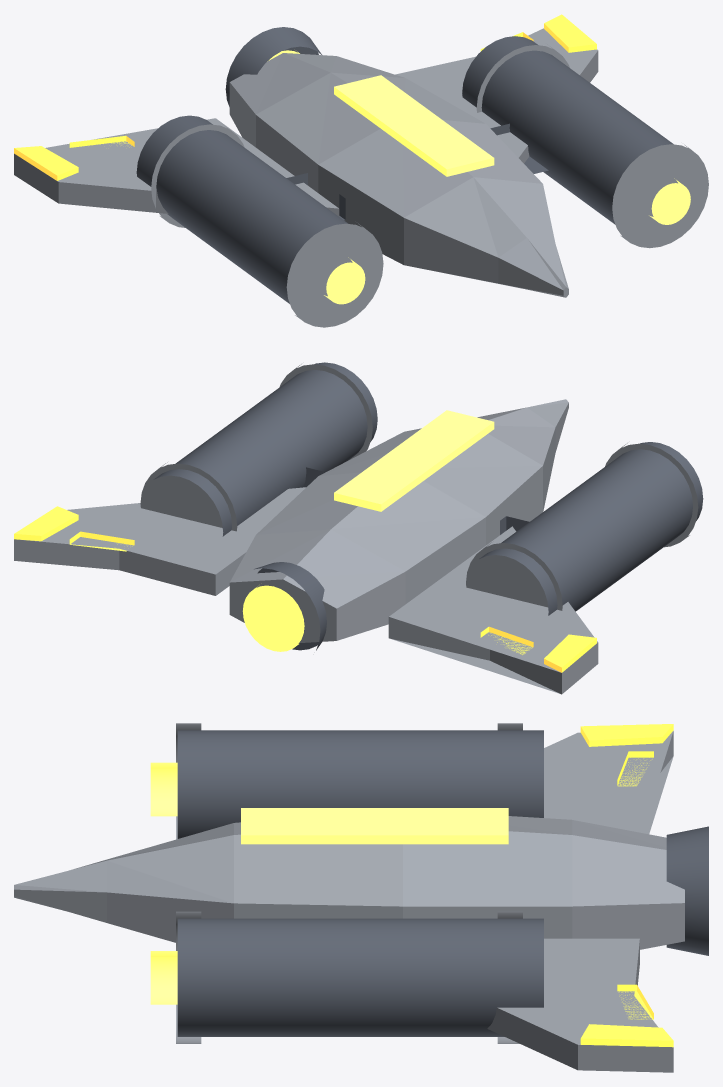
The model's file is drone_flax_6.glb.
3 renders of one model, top to bottom at view 1: azimuth 30°, elevation 25°; view 2: azimuth 150°, elevation 25°; view 3: azimuth 270°, elevation 25°, orthographic. The views are drawn at different scales.
Visible parts, largest first — view 1: drone_flax_6; view 2: drone_flax_6; view 3: drone_flax_6.
Part boxes in pixels (x1,y1,x2,y2): drone_flax_6: [14, 14, 708, 327]; drone_flax_6: [14, 362, 703, 694]; drone_flax_6: [14, 723, 708, 1072].
Size of the model in its own units: 26.6 by 5.32 by 24.65.
